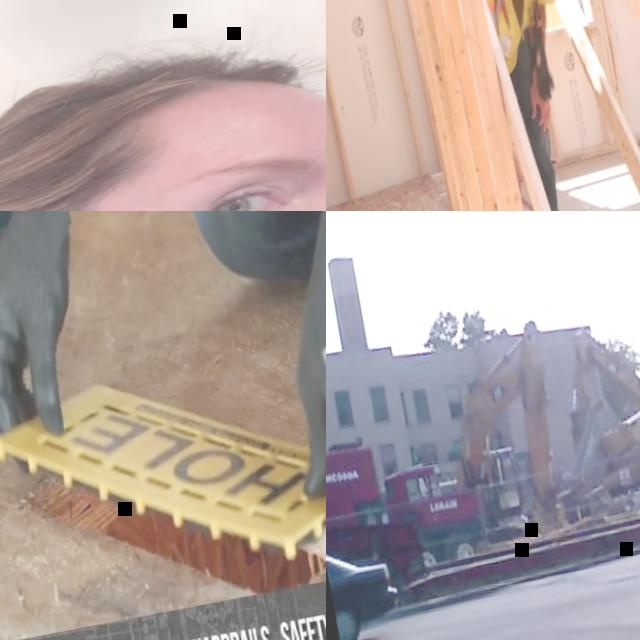Mask: (3, 159, 326, 211)
NO-Hardhat: (0, 21, 326, 211)
Person: (0, 211, 326, 603), (0, 0, 326, 211), (456, 0, 607, 211)
Safety Vest: (464, 0, 568, 76)
machinery: (415, 318, 579, 557), (551, 305, 640, 510)
vehicle: (326, 535, 405, 640)
